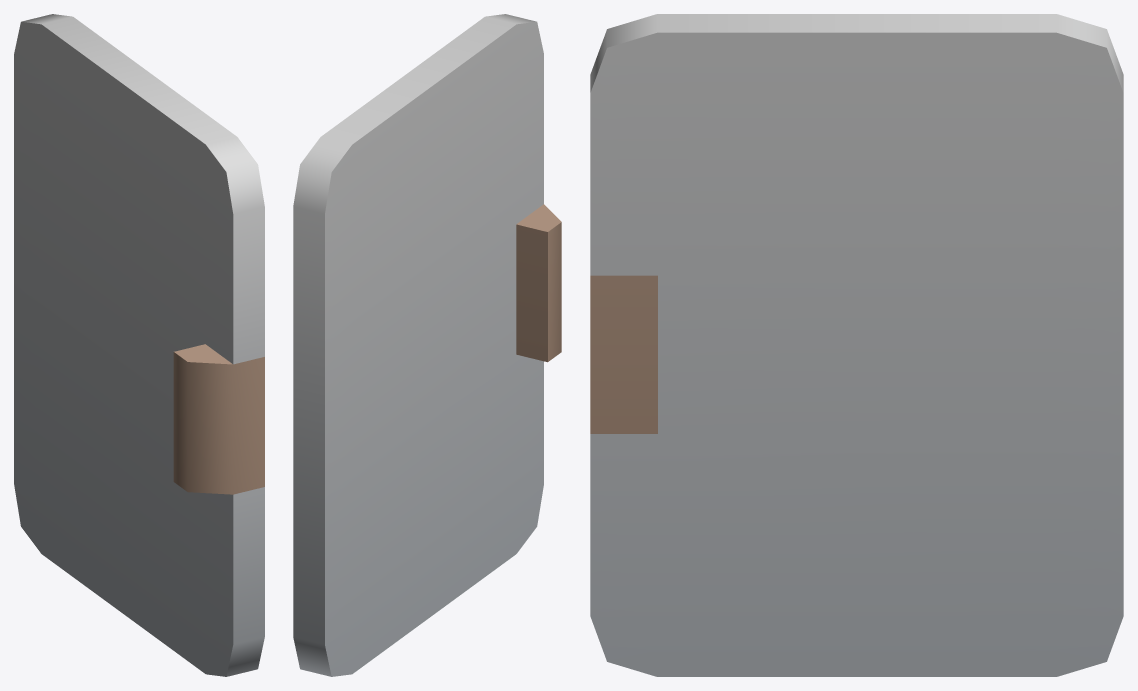
Rendered from (%no-merge) (%open-left) 12.glb.
The picture shows the model from 3 angles, left to right: view 1: azimuth 30°, elevation 25°; view 2: azimuth 150°, elevation 25°; view 3: azimuth 270°, elevation 25°; orthographic projection. The views are drawn at different scales.
Parts seen in each view (by area): view 1: (%no-merge) (%open-left) 12(Clone); view 2: (%no-merge) (%open-left) 12(Clone); view 3: (%no-merge) (%open-left) 12(Clone).
Part boxes in pixels (x1,y1,x2,y2): (%no-merge) (%open-left) 12(Clone): (14,14,264,676); (%no-merge) (%open-left) 12(Clone): (293,14,561,676); (%no-merge) (%open-left) 12(Clone): (590,14,1123,676).
Bounding box in the file's own units: 0.05 × 0.4 × 0.3.
